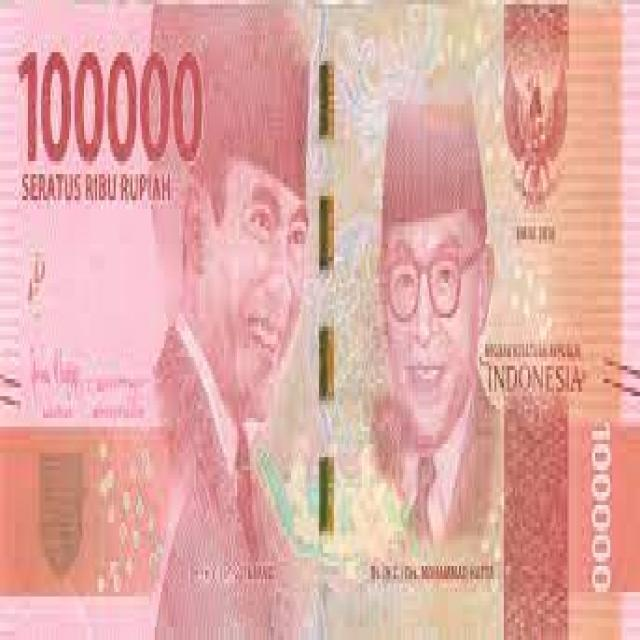seratus ribu rupiah: (0, 0, 640, 640), (184, 17, 312, 418), (371, 75, 492, 416), (16, 36, 202, 162)
